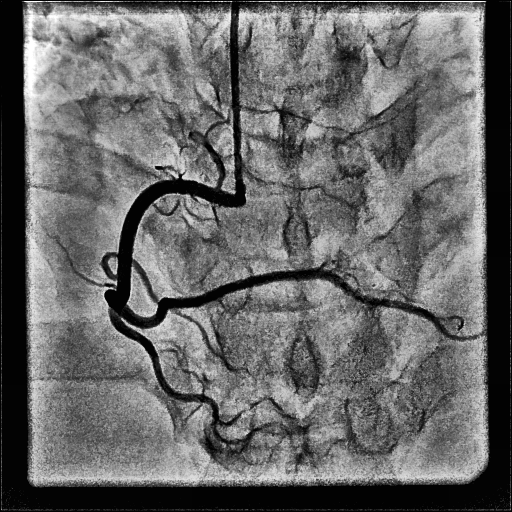pda: (315, 269, 478, 341)
rca: (104, 180, 315, 329)
